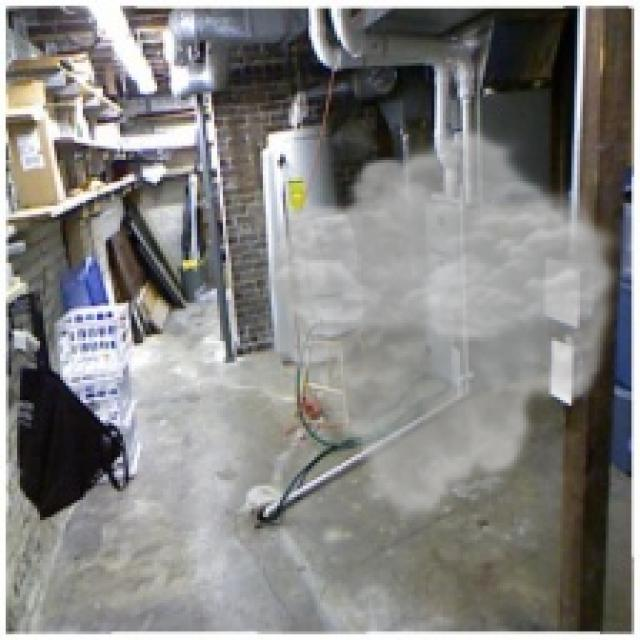smoke: (254, 125, 626, 526)
